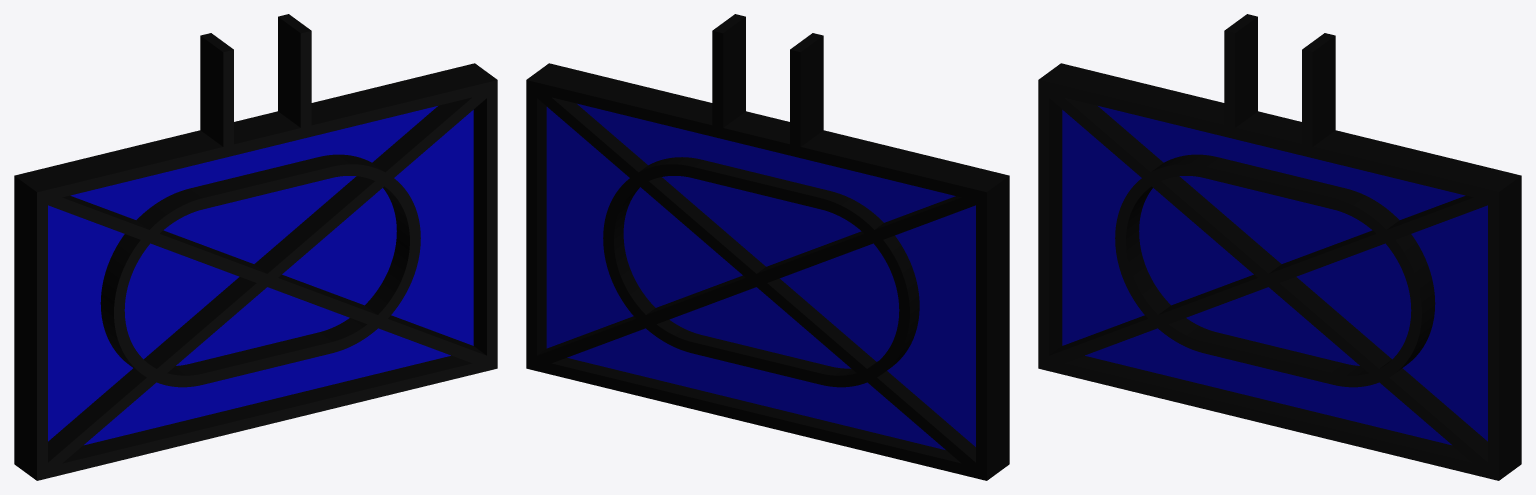
File: ORBAT_-_1.obj
3 views of the same model, side by side, from view 1: azimuth 30°, elevation 25°; view 2: azimuth 150°, elevation 25°; view 3: azimuth 330°, elevation 25° (orthographic).
Parts seen in each view (by area): view 1: SM_ORBAT_-_1_path1763-2.257; view 2: SM_ORBAT_-_1_path1763-2.257; view 3: SM_ORBAT_-_1_path1763-2.257.
Part boxes in pixels (x1=…): SM_ORBAT_-_1_path1763-2.257: x1=14, y1=14, x2=497, y2=480; SM_ORBAT_-_1_path1763-2.257: x1=526, y1=14, x2=1009, y2=480; SM_ORBAT_-_1_path1763-2.257: x1=1038, y1=14, x2=1521, y2=480.
Bounding box in the file's own units: 1.21 × 0.959 × 0.1034.
